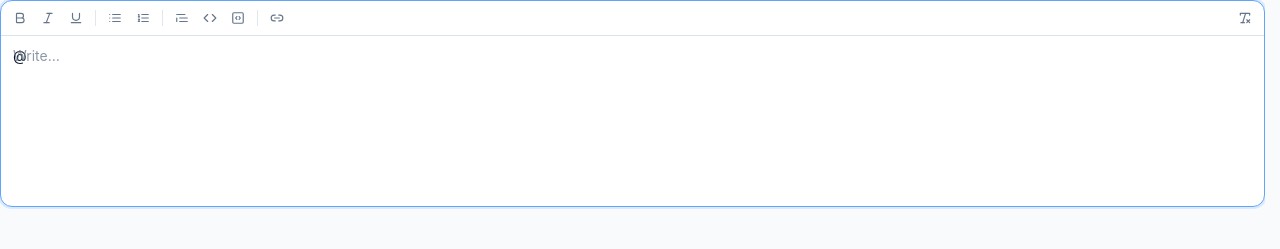
it: the @ menu in the note editor › Enter picks the highlighted person, arrows move, Esc closes
Clear the field named "Internal note body" at (20, 56), box [13,47,26,64]
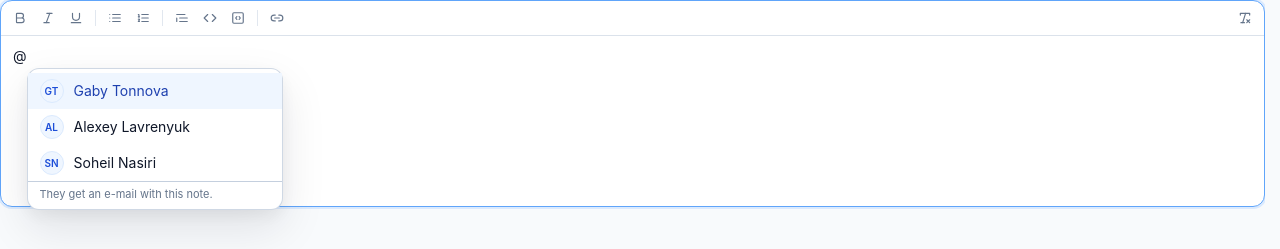
Check: the number of options is 3, box [28,73,282,109]; [28,109,282,145]; [28,145,282,181]
Press ArrowDown in the field named "Internal note body", box [13,47,26,64]
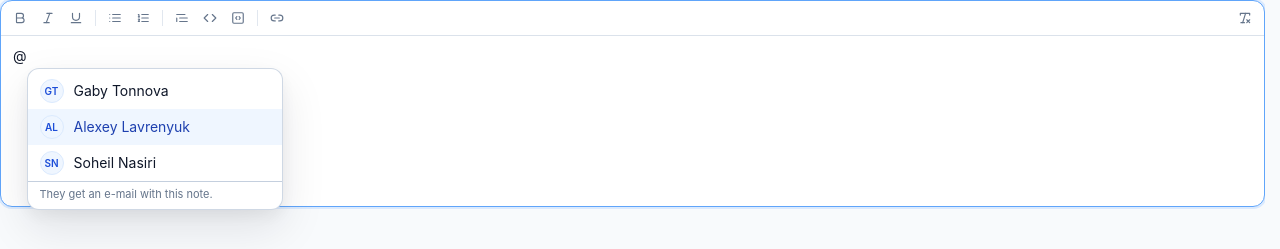
Press Enter in the field named "Internal note body", box [13,47,26,64]
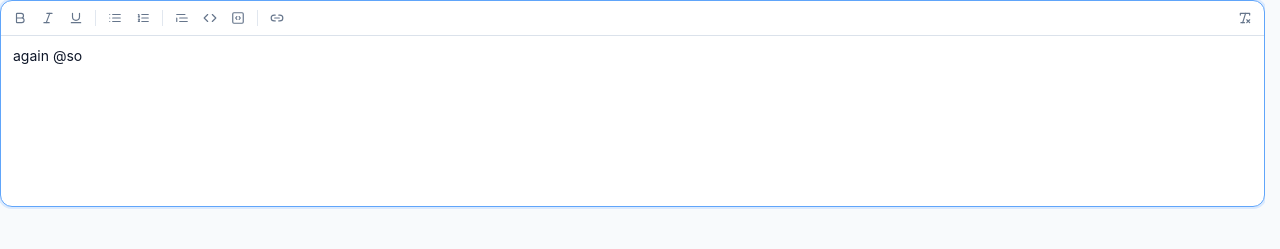
Clear the field named "Internal note body" at (48, 56), box [13,47,82,64]
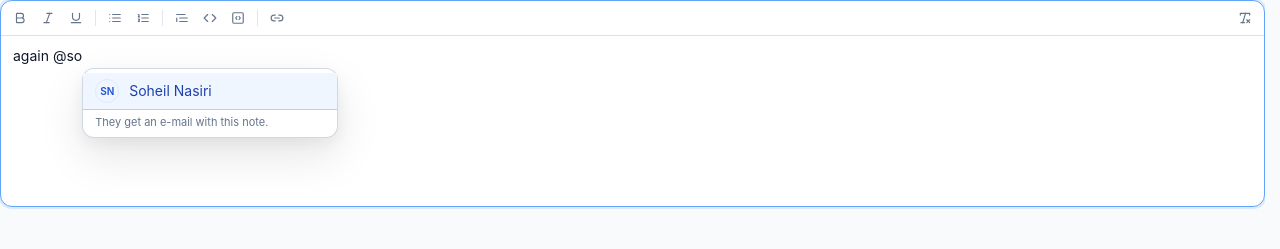
Press Escape in the field named "Internal note body", box [13,47,82,64]
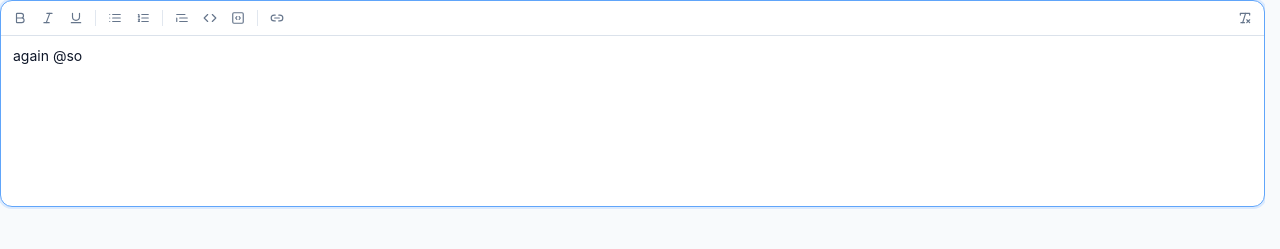
Check: the list with test id "mention-menu" is gone
